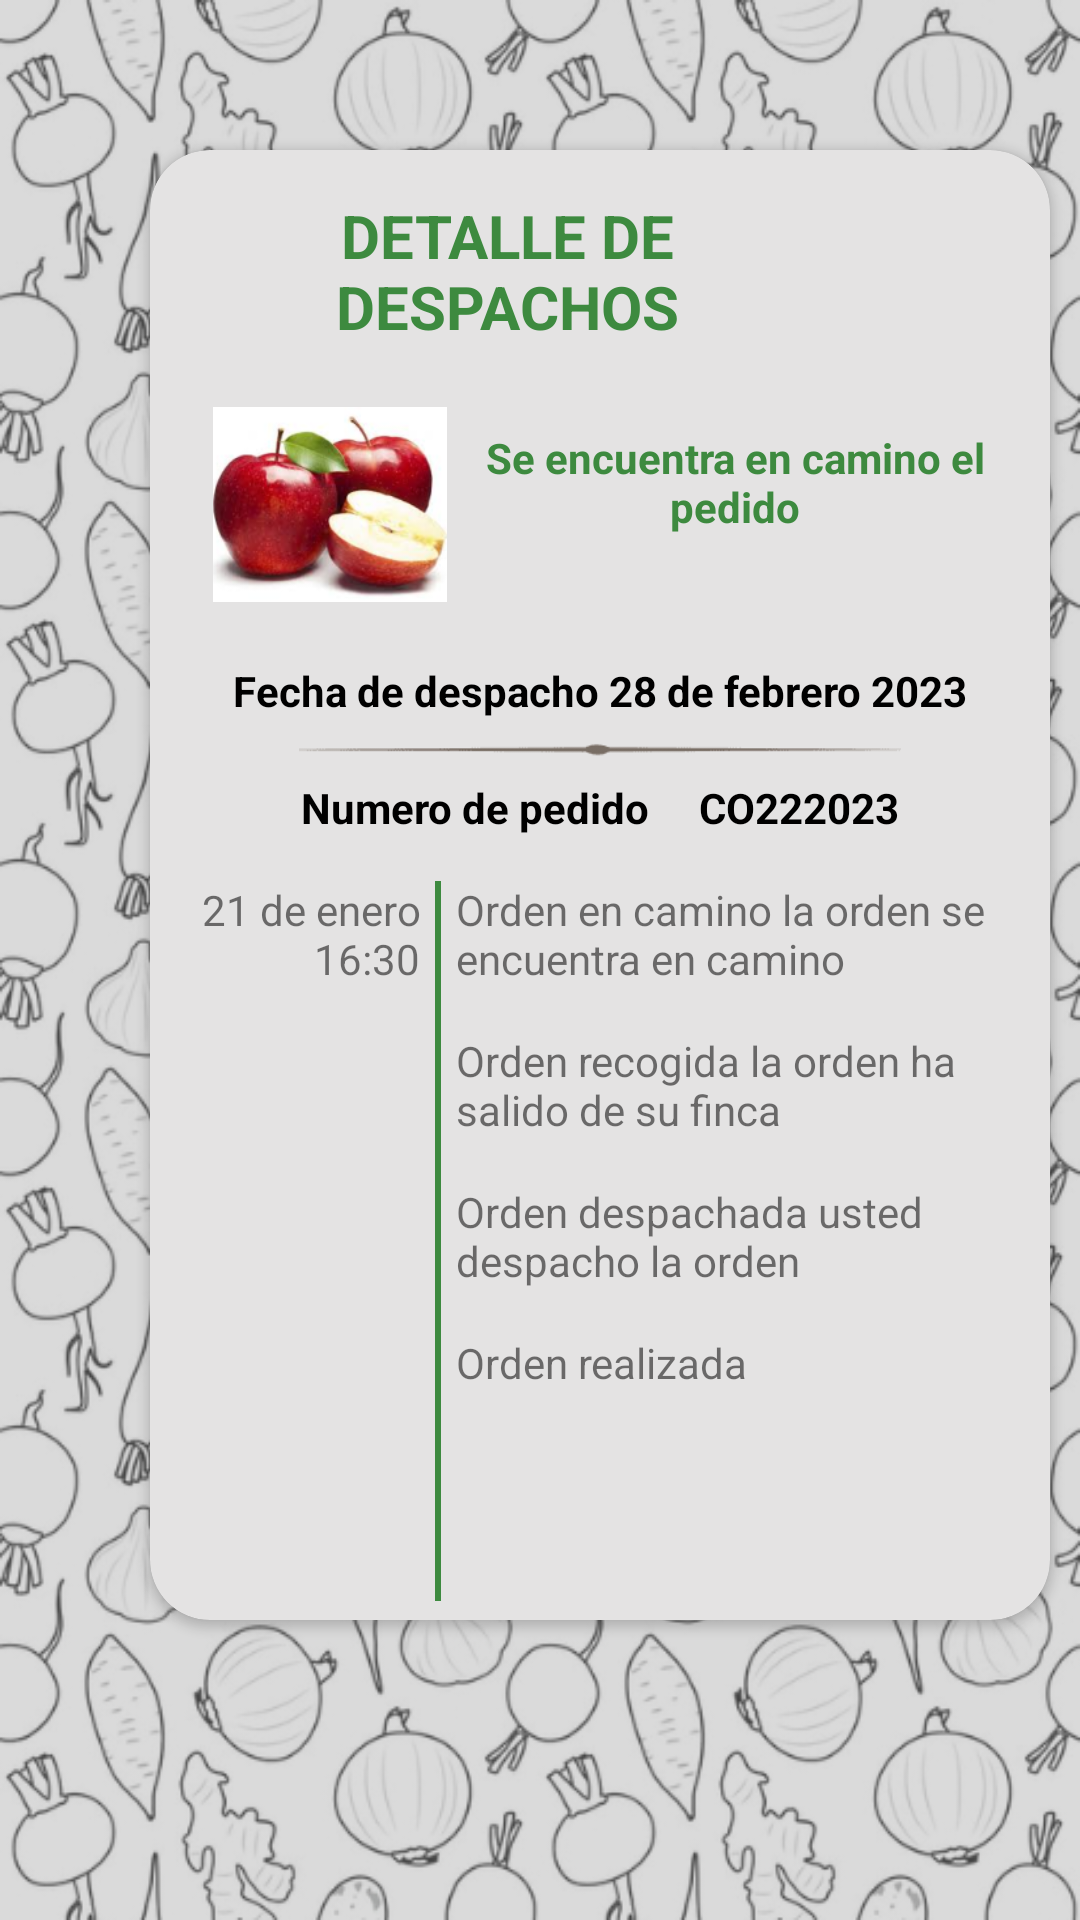

Icon bounding boxes for this 1080w x 1920h phone screenshot, format [x1=x1, y1=y1, x2=x2, y2=y2]:
manzanas: [x1=213, y1=407, x2=447, y2=602]
